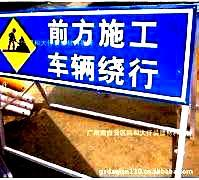sign: (1, 8, 193, 96)
